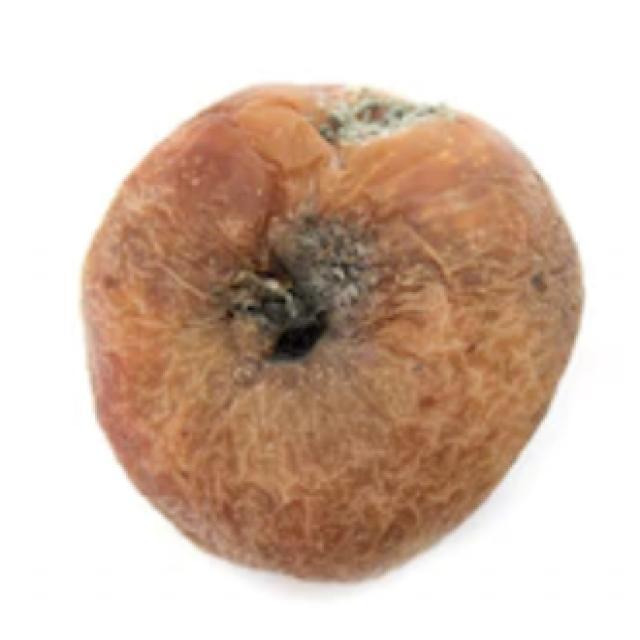Rotten: (80, 83, 578, 567)
